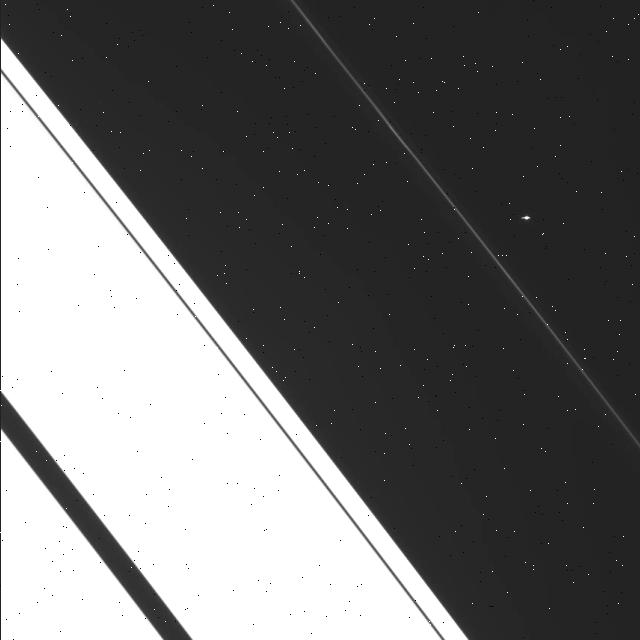Saturn: (0, 21, 503, 640)
